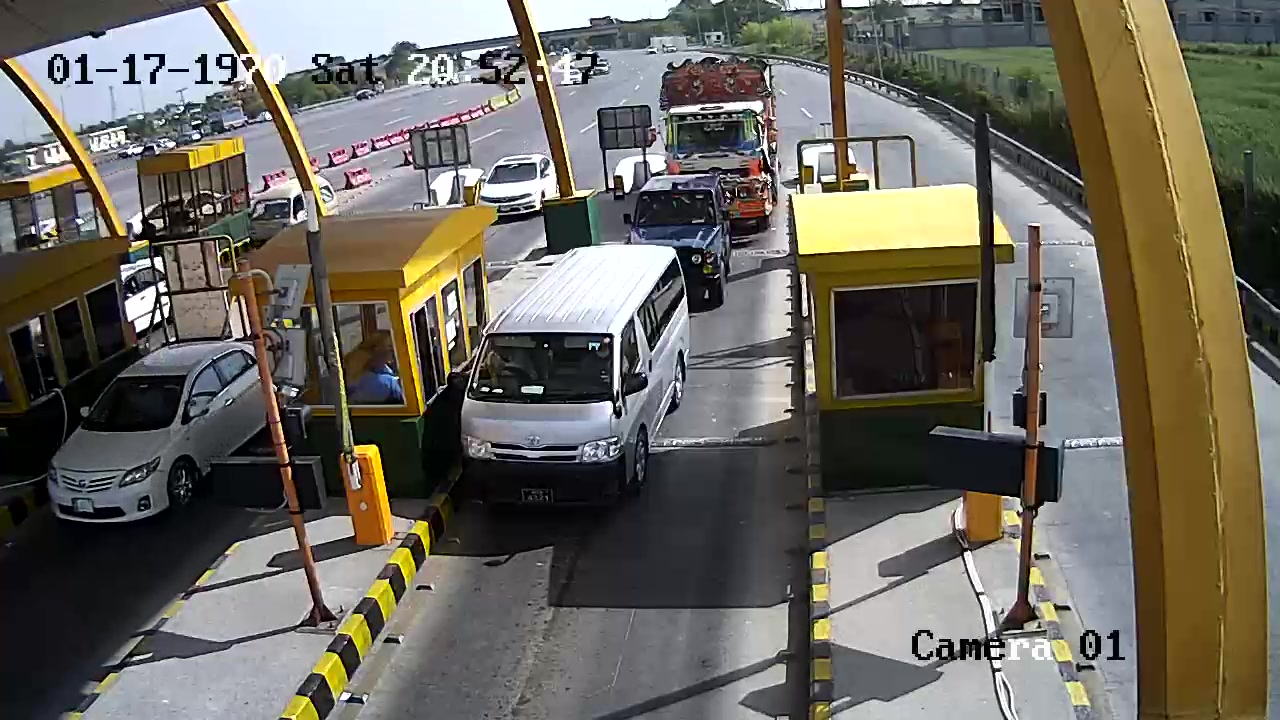F3: (461, 245, 691, 509)
